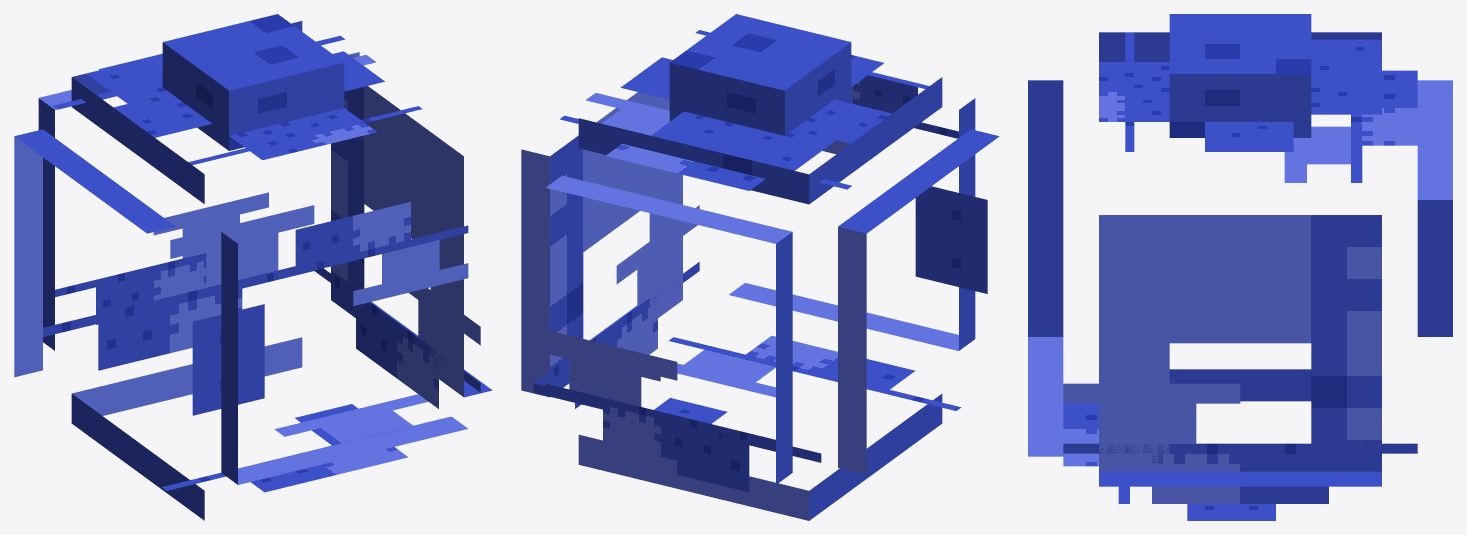
The model's file is oran.obj.
3 renders of one model, left to right at view 1: azimuth 30°, elevation 25°; view 2: azimuth 150°, elevation 25°; view 3: azimuth 270°, elevation 25°, orthographic. The views are drawn at different scales.
Visible parts, largest first — view 1: Right_ridge; view 2: Right_ridge; view 3: Right_ridge.
Part boxes in pixels (bbox=[...]): Right_ridge: bbox=[14, 14, 492, 520]; Right_ridge: bbox=[521, 14, 999, 520]; Right_ridge: bbox=[1028, 14, 1452, 520].
Bounding box in the file's own units: 0.3 × 0.325 × 0.3.
